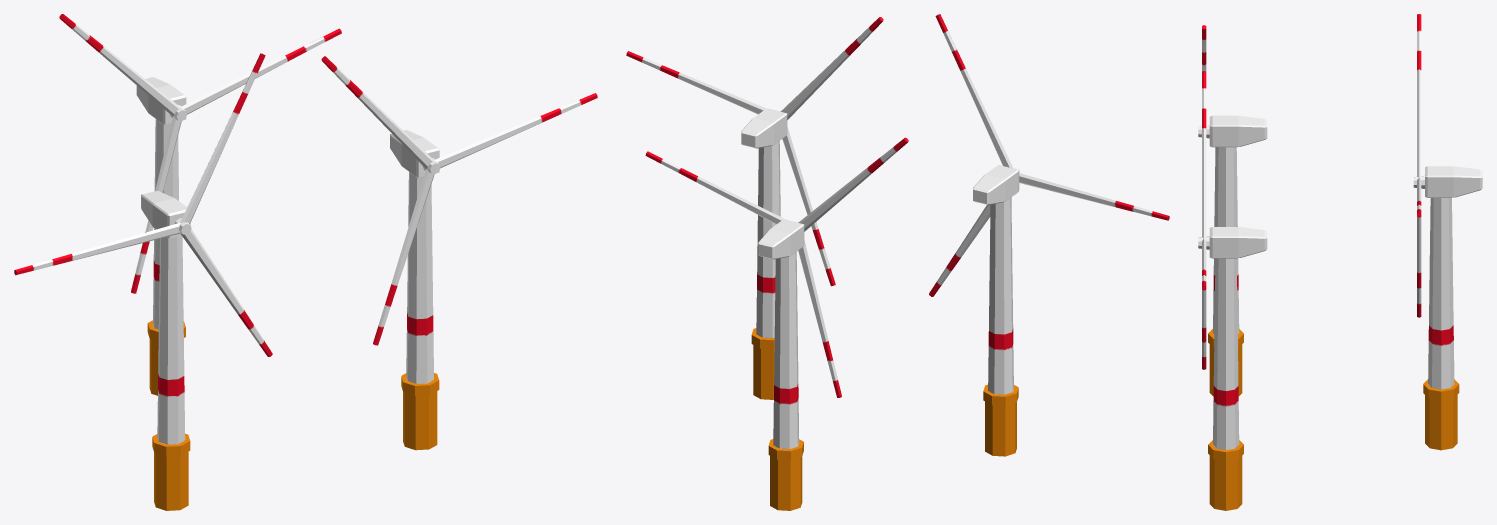
The model's file is Turbine_noGround.fbx.
3 renders of one model, left to right at view 1: azimuth 30°, elevation 25°; view 2: azimuth 150°, elevation 25°; view 3: azimuth 270°, elevation 25°, orthographic. The views are drawn at different scales.
Visible parts, largest first — view 1: Cube.002; view 2: Cube.002; view 3: Cube.002.
Part boxes in pixels (<box>): Cube.002: <box>14,14,597,510</box>; Cube.002: <box>626,14,1169,510</box>; Cube.002: <box>1198,14,1482,510</box>.
Bounding box in the file's own units: 257 × 186 × 119.
